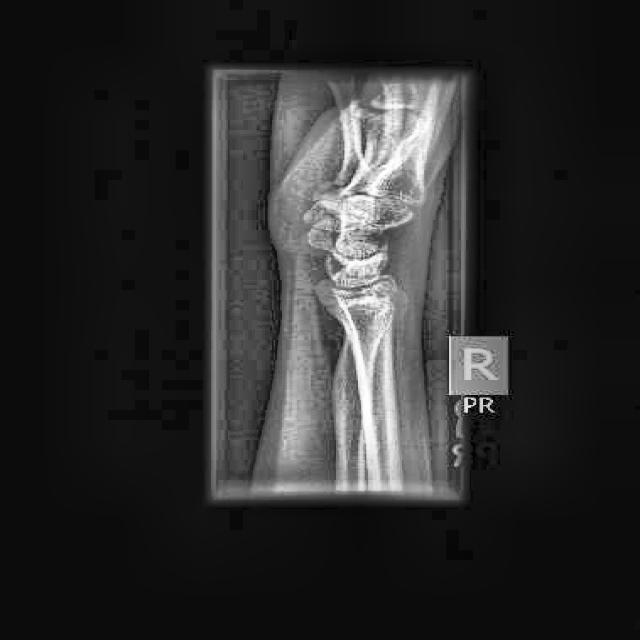fingers positive: (276, 263, 419, 338)
